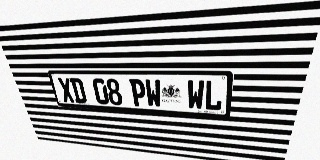0: (91, 78, 110, 105)
8: (105, 78, 123, 105)
D: (69, 78, 87, 103)
L: (204, 80, 224, 111)
P: (129, 79, 147, 107)
W: (187, 80, 205, 110), (144, 79, 162, 108)
X: (57, 78, 75, 103)
